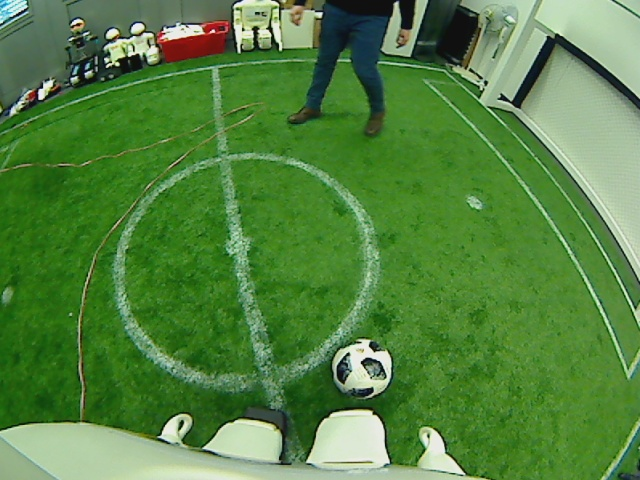ball: (329, 338, 393, 400)
